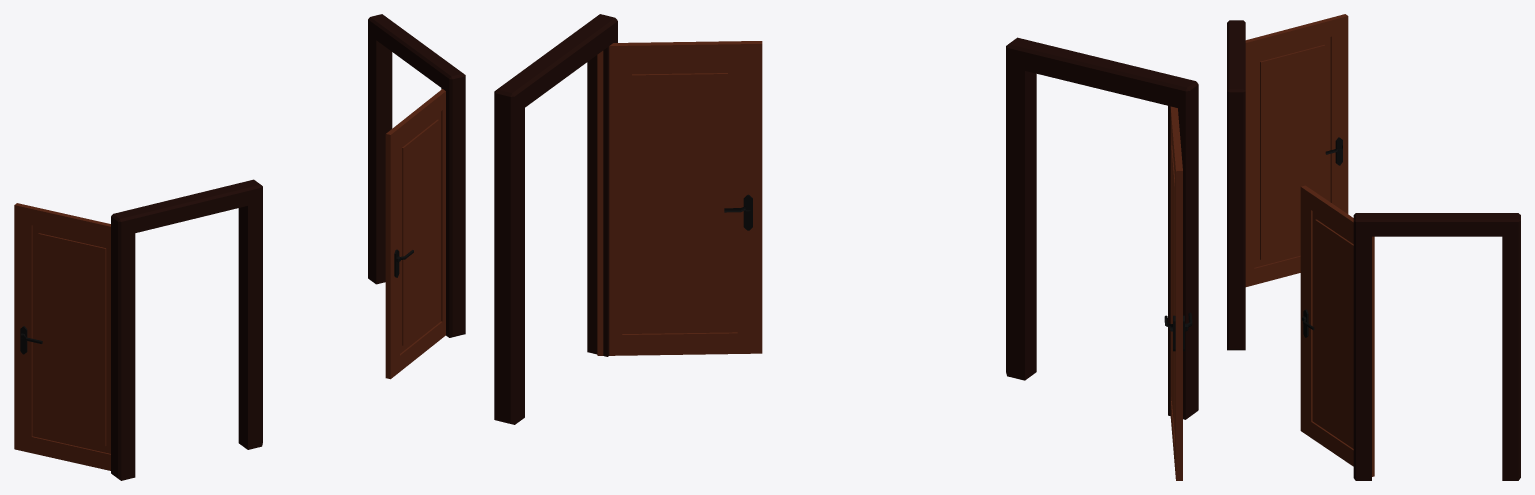
File: doors.obj
3 renders of one model, left to right at view 1: azimuth 30°, elevation 25°; view 2: azimuth 150°, elevation 25°; view 3: azimuth 270°, elevation 25°, orthographic. The views are drawn at different scales.
Parts seen in each view (by area): view 1: door, frame; view 2: door, frame; view 3: door, frame.
Part boxes in pixels (x1,y1,x2,y2): door: [14, 89, 445, 470]; frame: [111, 14, 465, 480]; door: [597, 41, 1192, 480]; frame: [494, 14, 1198, 424]; door: [1245, 14, 1374, 476]; frame: [1227, 20, 1520, 480].
Bounding box in the file's own units: 0.7316 × 0.4 × 0.4077.
